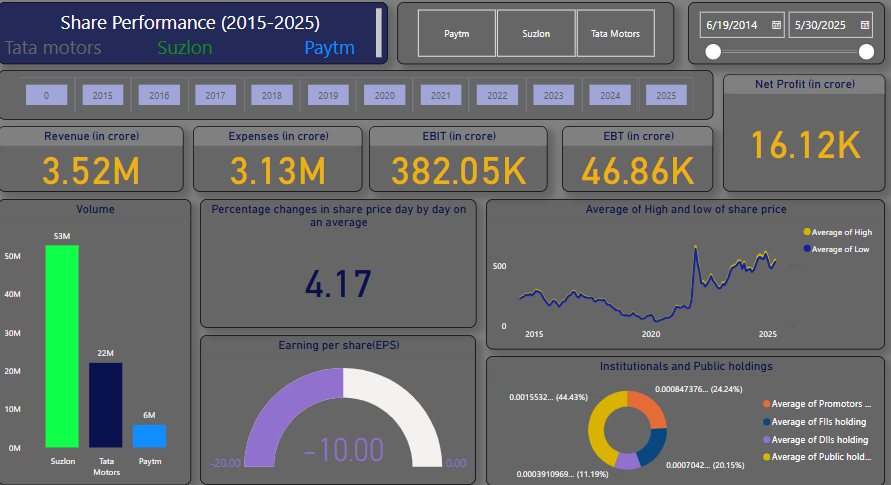

What the dashboard file says about the page in this screenshot:
{"tool":"powerbi","page":{"name":"Page 1","canvas":[1280,720],"ordinal":0},"visuals":[{"type":"lineChart","title":"Average of High and low of share price","fields":{"Y":["Avg(Tata Motors Stock Price History.High)"],"Y2":["Avg(Tata Motors Stock Price History.Low)"],"Category":["Tata Motors Stock Price History.Date.Variation.Date Hierarchy.Year","Tata Motors Stock Price History.Date.Variation.Date Hierarchy.Month"]},"box":[697,296.6,570.2,214.6],"z":0},{"type":"slicer","fields":{"Values":["Tata Motors Stock Price History.Stock Name"]},"box":[570.2,15.8,396,89.3],"z":1000},{"type":"textbox","box":[0,15.8,557.3,89.3],"z":2000},{"type":"card","title":"Revenue (in crore)","fields":{"Values":["Sum(Tata Motors Stock Price History.Revenue)"]},"box":[0,193,265,93.6],"z":3000},{"type":"card","title":"Expenses (in crore)","fields":{"Values":["Sum(Tata Motors Stock Price History.Expenses)"]},"box":[277.9,193,241.9,93.6],"z":4000},{"type":"card","title":"EBIT (in crore)","fields":{"Values":["Sum(Tata Motors Stock Price History.EBIT)"]},"box":[529.9,193,254.9,93.6],"z":5000},{"type":"card","title":"EBT (in crore)","fields":{"Values":["Sum(Tata Motors Stock Price History.EBT)"]},"box":[806.4,193,216,93.6],"z":6000},{"type":"card","title":"Net Profit (in crore)","fields":{"Values":["Sum(Tata Motors Stock Price History.Net Profit)"]},"box":[1035.4,118.1,231.8,168.5],"z":7000},{"type":"slicer","fields":{"Values":["Tata Motors Stock Price History.Date"]},"box":[986.4,15.8,280.8,89.3],"z":8000},{"type":"donutChart","title":"Institutionals and Public holdings","fields":{"Y":["Avg(Tata Motors Stock Price History.Promotors holding)","Avg(Tata Motors Stock Price History.FIIs holding)","Avg(Tata Motors Stock Price History.DIIs holding)","Avg(Tata Motors Stock Price History.Public holding)"]},"box":[697,521.3,570.2,185.8],"z":9000},{"type":"gauge","title":"Earning per share(EPS)","fields":{"Y":["Sum(Tata Motors Stock Price History.EPS)"]},"box":[288.6,491.4,394.3,214.3],"z":10000},{"type":"clusteredColumnChart","title":"Volume","fields":{"Y":["Avg(Tata Motors Stock Price History.Vol.)"],"Category":["Tata Motors Stock Price History.Stock Name"]},"box":[0,296.6,276.5,409],"z":11000},{"type":"card","title":"Percentage changes in share price day by day on an average","fields":{"Values":["Sum(Tata Motors Stock Price History.Change %)"]},"box":[288,296.6,394.6,184.3],"z":12000},{"type":"slicer","fields":{"Values":["Tata Motors Stock Price History.Year"]},"box":[0,112.3,1022.4,70.6],"z":13000}]}

Visuals, with their boxes on the page's 1280x720 design canvas (x1, y1, x2, y2). These are canvas units, not pixel positions in the 891x485 screenshot, which may show the page scaled, cropped or inside an application window:
"Average of High and low of share price" lineChart: {"x1": 697, "y1": 297, "x2": 1267, "y2": 511}
slicer - Tata Motors Stock Price History.Stock Name: {"x1": 570, "y1": 16, "x2": 966, "y2": 105}
textbox: {"x1": 0, "y1": 16, "x2": 557, "y2": 105}
"Revenue (in crore)" card: {"x1": 0, "y1": 193, "x2": 265, "y2": 287}
"Expenses (in crore)" card: {"x1": 278, "y1": 193, "x2": 520, "y2": 287}
"EBIT (in crore)" card: {"x1": 530, "y1": 193, "x2": 785, "y2": 287}
"EBT (in crore)" card: {"x1": 806, "y1": 193, "x2": 1022, "y2": 287}
"Net Profit (in crore)" card: {"x1": 1035, "y1": 118, "x2": 1267, "y2": 287}
slicer - Tata Motors Stock Price History.Date: {"x1": 986, "y1": 16, "x2": 1267, "y2": 105}
"Institutionals and Public holdings" donutChart: {"x1": 697, "y1": 521, "x2": 1267, "y2": 707}
"Earning per share(EPS)" gauge: {"x1": 289, "y1": 491, "x2": 683, "y2": 706}
"Volume" clusteredColumnChart: {"x1": 0, "y1": 297, "x2": 276, "y2": 706}
"Percentage changes in share price day by day on an average" card: {"x1": 288, "y1": 297, "x2": 683, "y2": 481}
slicer - Tata Motors Stock Price History.Year: {"x1": 0, "y1": 112, "x2": 1022, "y2": 183}
